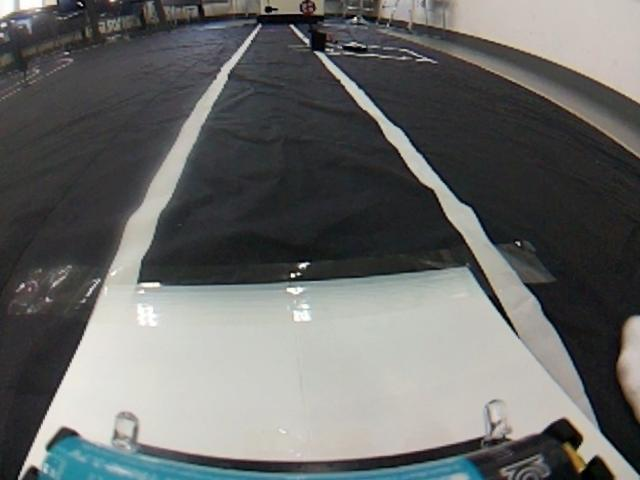hill_down: (38, 205, 590, 455)
